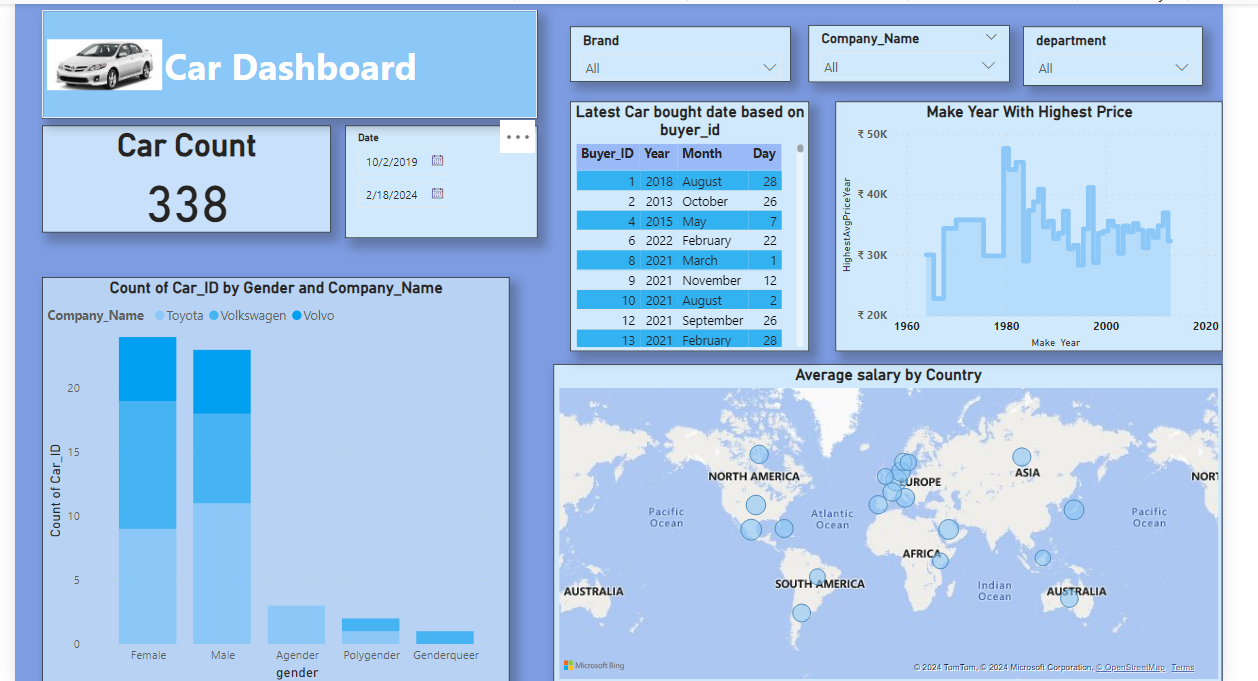

What the dashboard file says about the page in this screenshot:
{"tool":"powerbi","page":{"name":"Page 2","canvas":[1280,720],"ordinal":0},"visuals":[{"type":"card","title":"Car Count","fields":{"Values":["Count(Cars.Car_ID)"]},"box":[28.3,128.5,306.1,113.4],"z":0},{"type":"slicer","fields":{"Values":["Company.Company_Name "]},"box":[841,22.7,213.5,60.5],"z":1000},{"type":"slicer","fields":{"Values":["Cars.Company_Name "]},"box":[587.7,24.6,234.3,58.6],"z":2000},{"type":"slicer","fields":{"Values":["Employee Details.department"]},"box":[1067.7,24.6,190.9,62.4],"z":3000},{"type":"map","title":"Average  salary by Country","fields":{"Category":["Company.Country"],"Size":["Avg(Employee Details.salary)"]},"box":[570.7,381.7,708.7,338.3],"z":4000},{"type":"areaChart","title":"Make Year With Highest Price","fields":{"Category":["Cars.Make_Year"],"Y":["Cars.HighestAvgPriceYear"]},"box":[869.3,103.9,410.1,264.6],"z":5000},{"type":"slicer","fields":{"Values":["Employee Details.joineddate"]},"box":[349.6,128.5,204.1,119.1],"z":6000},{"type":"shape","box":[28.6,6.4,524.5,114.4],"z":7000},{"type":"columnChart","title":"Count of Car_ID by Gender and Company_Name ","fields":{"Category":["Employee Details.gender"],"Y":["CountNonNull(Cars.Car_ID)"],"Series":["Cars.Company_Name "]},"box":[28.6,289.3,494.3,430.7],"z":8000},{"type":"image","box":[28.3,0,132.3,128.5],"z":9000},{"type":"tableEx","title":"Latest Car bought date based on buyer_id","fields":{"Values":["Employee Details.Buyer_ID","Cars.LatestCarboughdate.Variation.Date Hierarchy.Year","Cars.LatestCarboughdate.Variation.Date Hierarchy.Month","Cars.LatestCarboughdate.Variation.Date Hierarchy.Day"]},"box":[587.7,103.9,253.2,264.6],"z":10000}]}

Visuals, with their boxes in screenshot pixels (x1, y1, x2, y2):
"Car Count" card: locate(11, 121, 307, 231)
slicer - Company.Company_Name : locate(797, 19, 1004, 77)
slicer - Cars.Company_Name : locate(552, 21, 779, 77)
slicer - Employee Details.department: locate(1017, 21, 1201, 81)
"Average  salary by Country" map: locate(536, 366, 1222, 680)
"Make Year With Highest Price" areaChart: locate(825, 97, 1222, 353)
slicer - Employee Details.joineddate: locate(322, 121, 519, 236)
shape: locate(11, 3, 519, 114)
"Count of Car_ID by Gender and Company_Name " columnChart: locate(11, 277, 490, 680)
image: locate(11, 0, 139, 121)
"Latest Car bought date based on buyer_id" tableEx: locate(552, 97, 797, 353)
